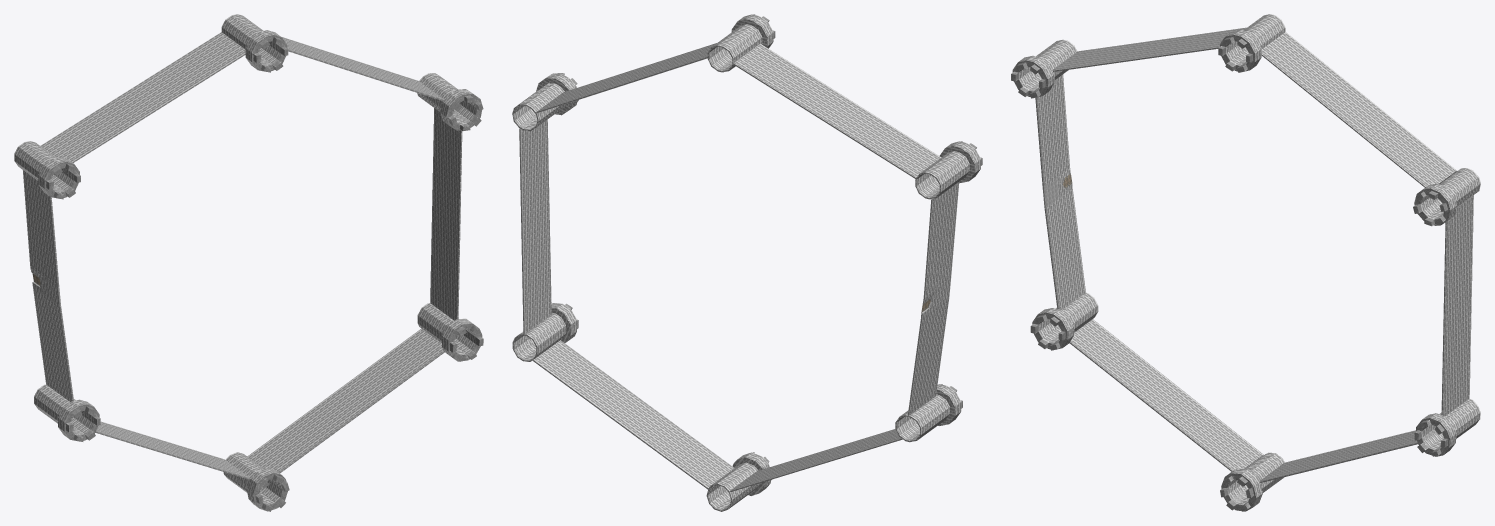
File: castle.glb
3 views of the same model, side by side, from view 1: azimuth 30°, elevation 25°; view 2: azimuth 150°, elevation 25°; view 3: azimuth 330°, elevation 25° (orthographic).
Parts seen in each view (by area): view 1: Cube.007, Cube.018, Cube.006, Cube.010, Cube.002, Cube.001, Cube.005, Cube.003, Cube.004, Cube.014, Cube.017, Cube.008; view 2: Cube.007, Cube.018, Cube.006, Cube.010, Cube.002, Cube.017, Cube.008, Cube.001, Cube.005, Cube.003, Cube.014, Cube.004; view 3: Cube.017, Cube.008, Cube.010, Cube.006, Cube.018, Cube.014, Cube.001, Cube.003, Cube.007, Cube.005, Cube.002, Cube.004.
Boxes of the visible parts, bbox=[...] form: Cube.007: bbox=[247, 328, 444, 473]; Cube.018: bbox=[40, 32, 245, 162]; Cube.006: bbox=[430, 108, 462, 320]; Cube.010: bbox=[23, 170, 73, 402]; Cube.002: bbox=[14, 141, 80, 199]; Cube.001: bbox=[221, 14, 288, 72]; Cube.005: bbox=[417, 303, 483, 361]; Cube.003: bbox=[34, 384, 100, 441]; Cube.004: bbox=[223, 452, 289, 511]; Cube.014: bbox=[417, 73, 483, 130]; Cube.017: bbox=[282, 37, 443, 100]; Cube.008: bbox=[95, 421, 250, 479]; Cube.007: bbox=[532, 340, 734, 490]; Cube.018: bbox=[732, 43, 941, 178]; Cube.006: bbox=[519, 119, 551, 334]; Cube.010: bbox=[907, 182, 959, 415]; Cube.002: bbox=[915, 141, 982, 199]; Cube.017: bbox=[536, 43, 716, 113]; Cube.008: bbox=[730, 429, 902, 491]; Cube.001: bbox=[707, 14, 775, 72]; Cube.005: bbox=[512, 303, 578, 361]; Cube.003: bbox=[895, 384, 962, 442]; Cube.014: bbox=[512, 73, 578, 131]; Cube.004: bbox=[706, 452, 771, 511]; Cube.017: bbox=[1261, 32, 1456, 187]; Cube.008: bbox=[1069, 319, 1263, 471]; Cube.010: bbox=[1035, 74, 1085, 310]; Cube.006: bbox=[1441, 195, 1473, 416]; Cube.018: bbox=[1052, 27, 1246, 71]; Cube.014: bbox=[1413, 168, 1480, 226]; Cube.001: bbox=[1218, 14, 1285, 72]; Cube.003: bbox=[1030, 292, 1098, 350]; Cube.007: bbox=[1260, 430, 1417, 482]; Cube.005: bbox=[1414, 399, 1480, 456]; Cube.002: bbox=[1011, 39, 1077, 98]; Cube.004: bbox=[1220, 452, 1284, 511].
Size of the model in its own units: 171 by 178 by 26.09.
Materials: 2 (2 with a texture image).
